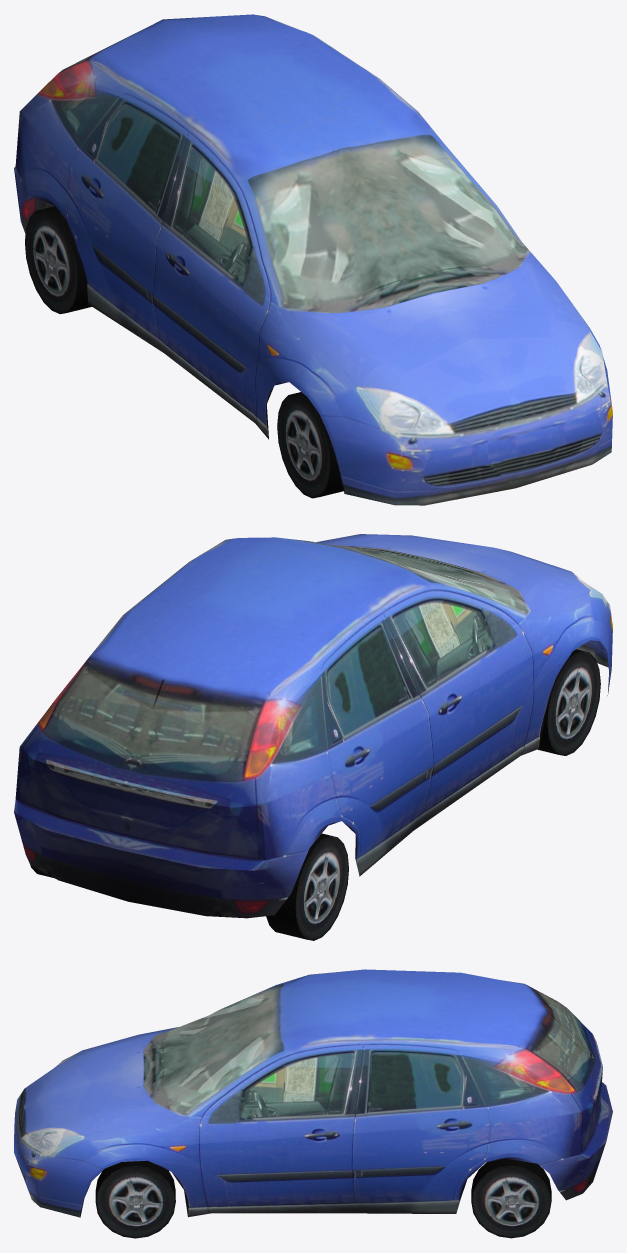
File: SM_Car02.FBX
3 views of the same model, one above another, from view 1: azimuth 30°, elevation 25°; view 2: azimuth 150°, elevation 25°; view 3: azimuth 270°, elevation 25° (orthographic). The views are drawn at different scales.
Parts seen in each view (by area): view 1: SM_Car02; view 2: SM_Car02; view 3: SM_Car02.
Boxes of the visible parts, x1=… form: SM_Car02: x1=14, y1=14, x2=612, y2=505; SM_Car02: x1=14, y1=534, x2=612, y2=940; SM_Car02: x1=14, y1=969, x2=612, y2=1238.
Size of the model in its own units: 2.86 by 2.49 by 7.01.
